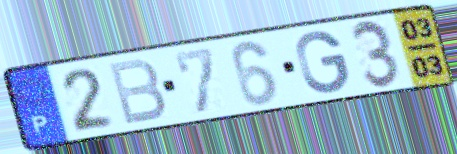2: (60, 67, 117, 135)
3: (350, 16, 402, 92)
6: (227, 38, 284, 108)
7: (171, 46, 218, 117)
B: (105, 57, 169, 128)
G: (293, 29, 352, 96)
